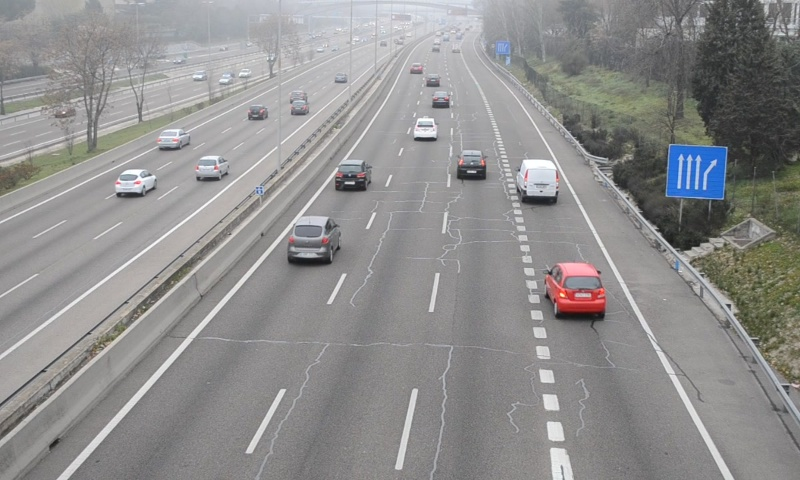car: (546, 262, 606, 314), (288, 216, 340, 262), (332, 160, 371, 190), (458, 149, 485, 180), (412, 117, 437, 139), (431, 90, 451, 108)
van: (519, 158, 557, 201)
